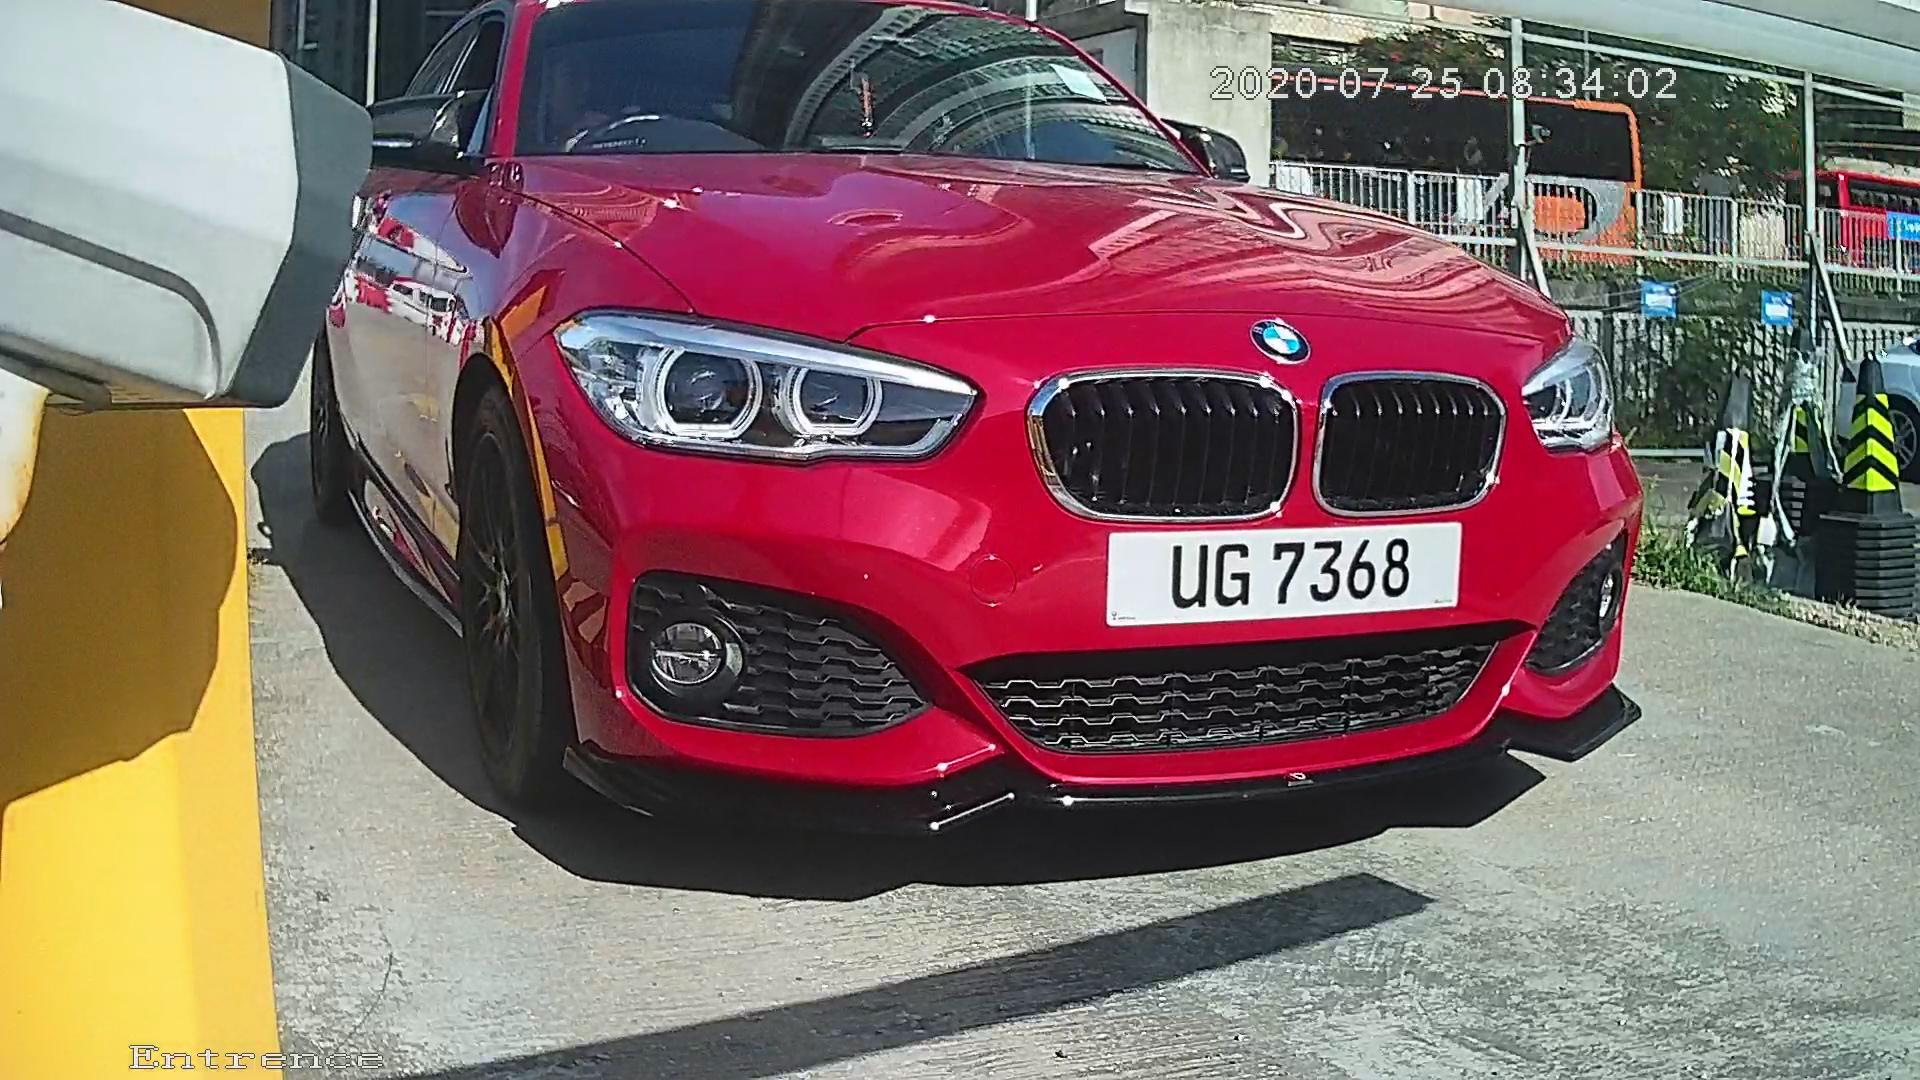Car: (189, 25, 1749, 926)
License Plate: (1089, 507, 1492, 637)
